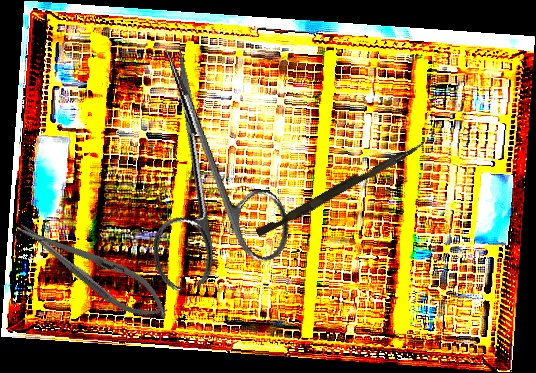Iris Scissors: (102, 30, 298, 295)
Needle Holder: (9, 207, 178, 333)
Pusher: (255, 135, 425, 242)
